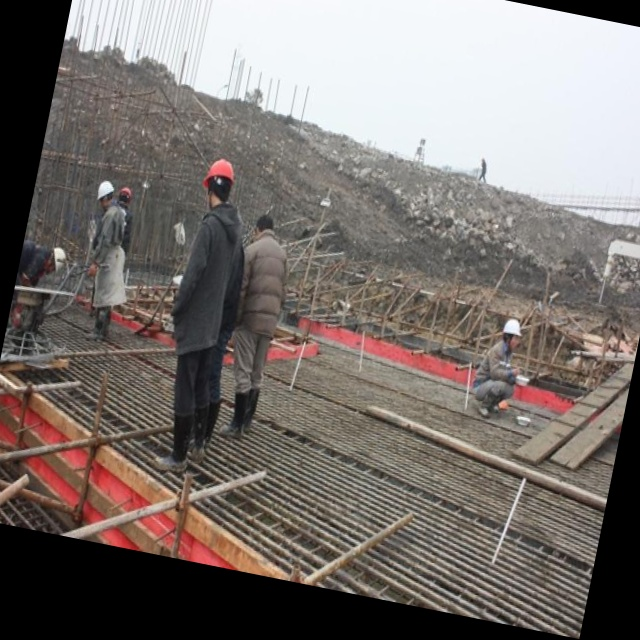Con_Casco: (198, 156, 238, 208)
Sin_Chaleco: (232, 229, 296, 333)
